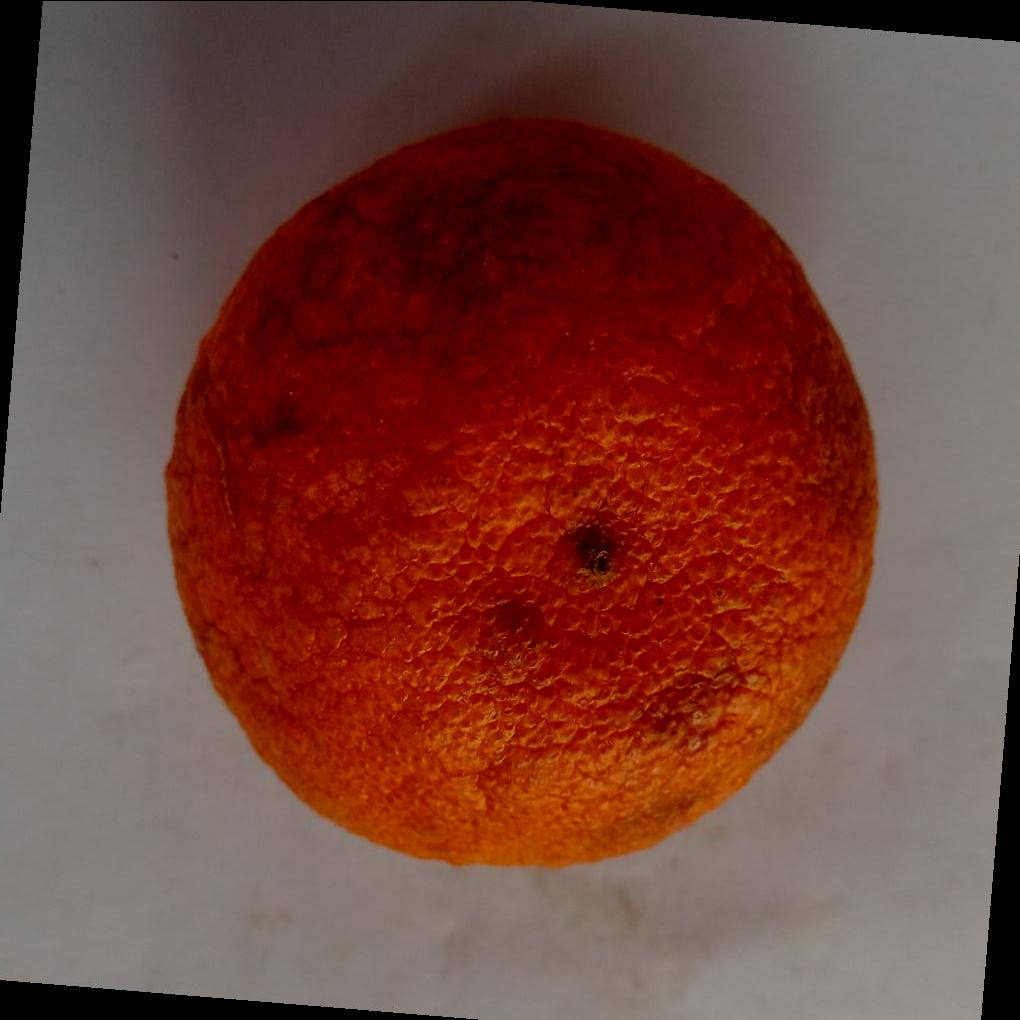FreshOrange: (165, 115, 884, 870)
